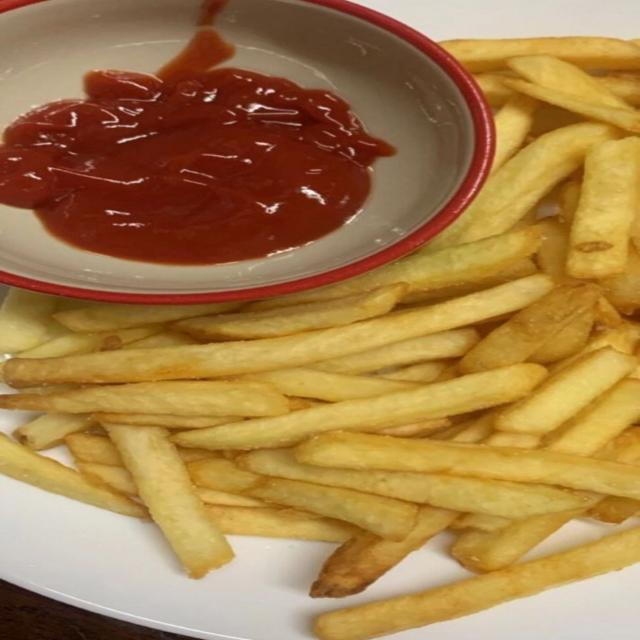potato fries: (0, 38, 639, 639), (4, 275, 552, 387), (314, 527, 640, 640), (174, 364, 546, 449), (250, 227, 539, 309), (430, 123, 618, 249), (238, 450, 584, 518), (297, 432, 639, 498), (106, 424, 233, 578), (173, 283, 408, 340), (310, 507, 456, 597), (460, 285, 601, 372), (496, 348, 637, 434), (0, 434, 146, 517), (247, 479, 417, 540), (0, 381, 288, 416), (567, 138, 639, 278), (451, 510, 584, 572), (311, 328, 479, 375), (545, 379, 639, 455), (505, 79, 639, 132), (442, 37, 639, 72), (507, 55, 630, 109), (244, 368, 418, 402), (55, 303, 240, 333), (207, 506, 360, 542), (21, 326, 161, 357), (492, 94, 539, 171), (0, 289, 55, 352), (529, 311, 594, 364), (14, 413, 92, 450), (600, 247, 639, 312), (91, 412, 240, 429), (188, 459, 263, 492), (537, 218, 573, 282), (65, 433, 123, 465), (377, 362, 448, 383), (196, 487, 268, 507), (598, 75, 639, 107), (475, 73, 513, 107)
